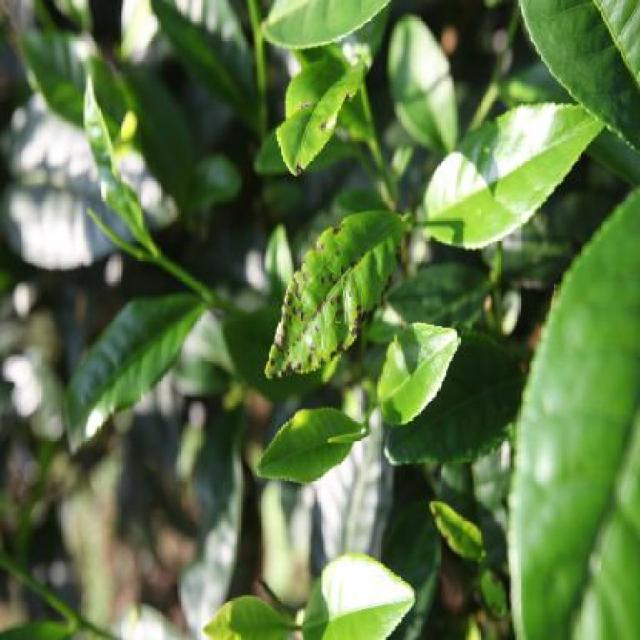Tea Mosquito bug infested leaf: (262, 200, 404, 380)
